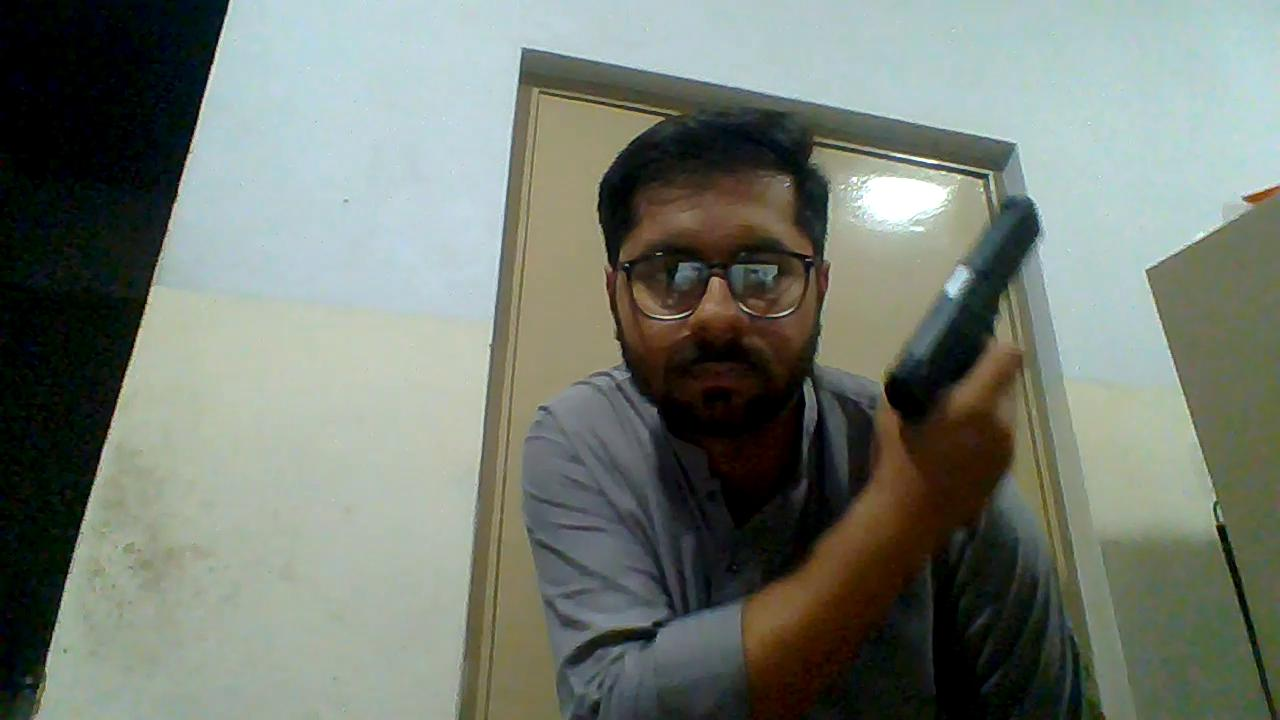criminal: (519, 103, 1097, 720)
weapon: (881, 192, 1044, 423)
